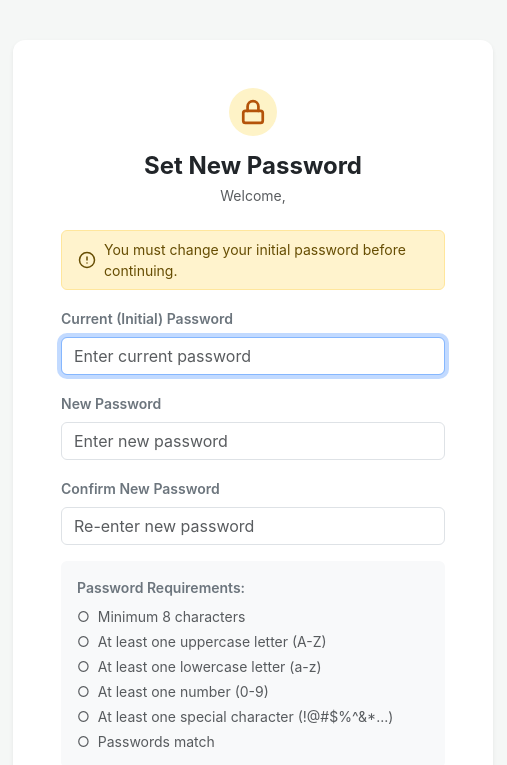
it: ChangePasswordView Component (Issue 20 - UI-02) › displays inline error alert if password change API rejects request
Type "WrongPass123!" into the password field labelled "Current (Initial) Password" at (253, 356), box [61, 337, 445, 375]
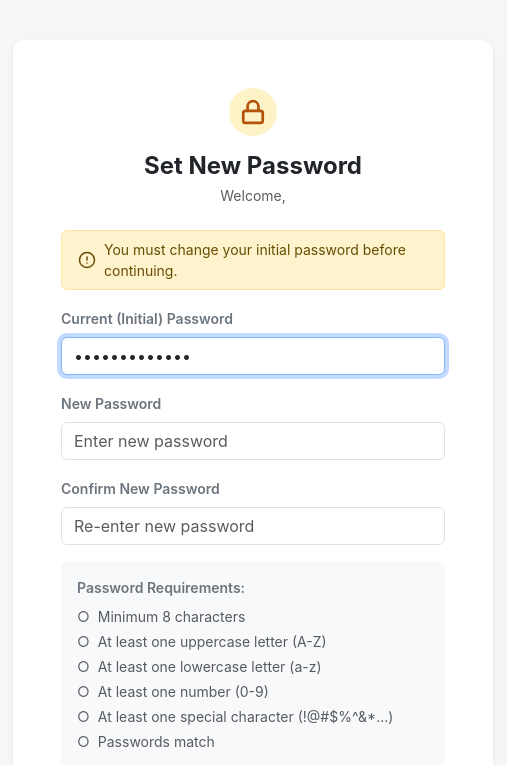
Type "BrandNewPass999!" into the password field labelled "New Password" at (253, 441), box [61, 422, 445, 460]
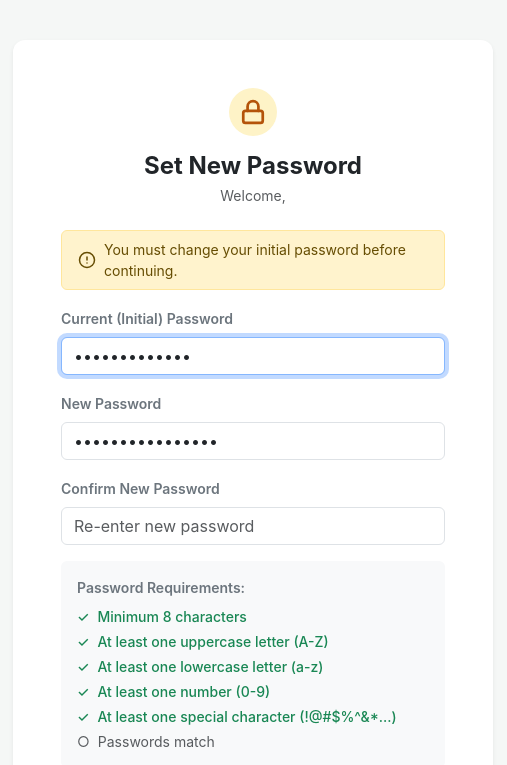
Type "BrandNewPass999!" into the password field labelled "Confirm New Password" at (253, 526), box [61, 507, 445, 545]
(page scrolled)
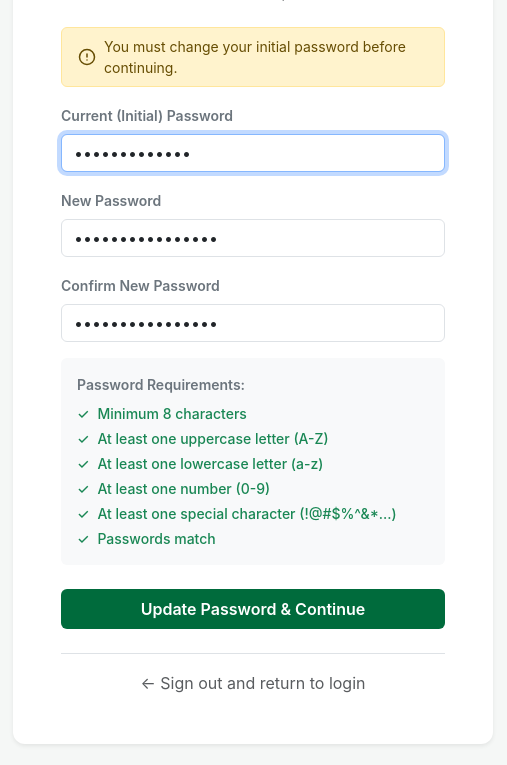
Click the button with test id "change-password-submit-button" at (253, 609), box [61, 589, 445, 629]
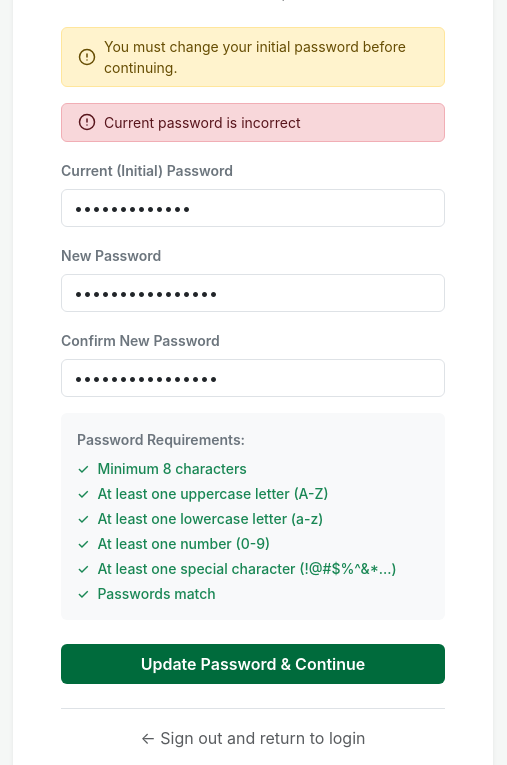
Result: the message "Current password is incorrect" is shown at [61, 103, 445, 142]
Result: the text "Current password is incorrect" is shown at [104, 112, 300, 133]
